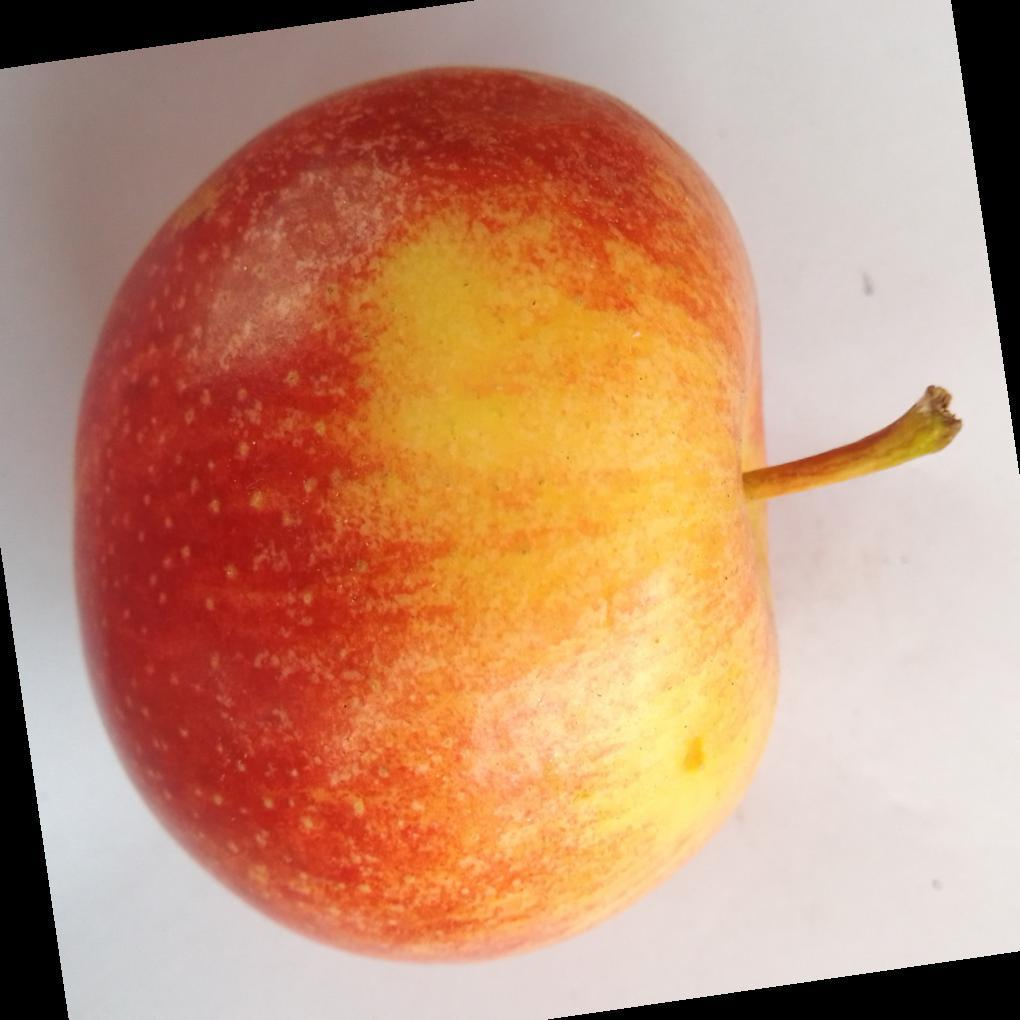FreshGuava: (71, 67, 959, 969)
